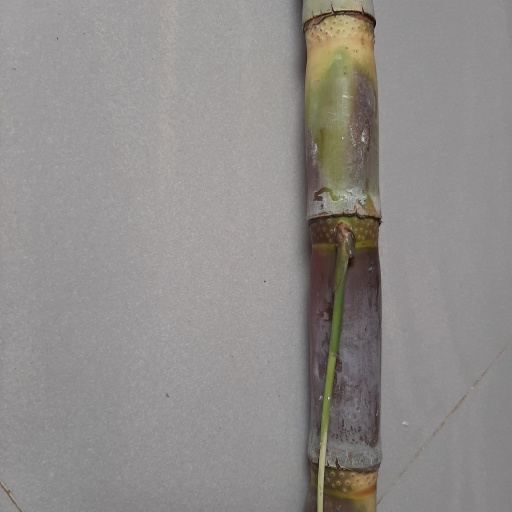Sprouted_Bud: (332, 218, 357, 291)
